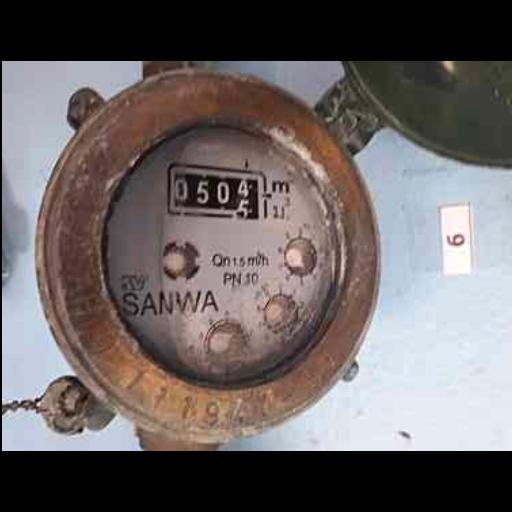0: (211, 175, 233, 210), (174, 173, 191, 209)
4: (234, 177, 259, 219)
5: (190, 174, 212, 209)
border_water_meter_number: (166, 162, 270, 220)
